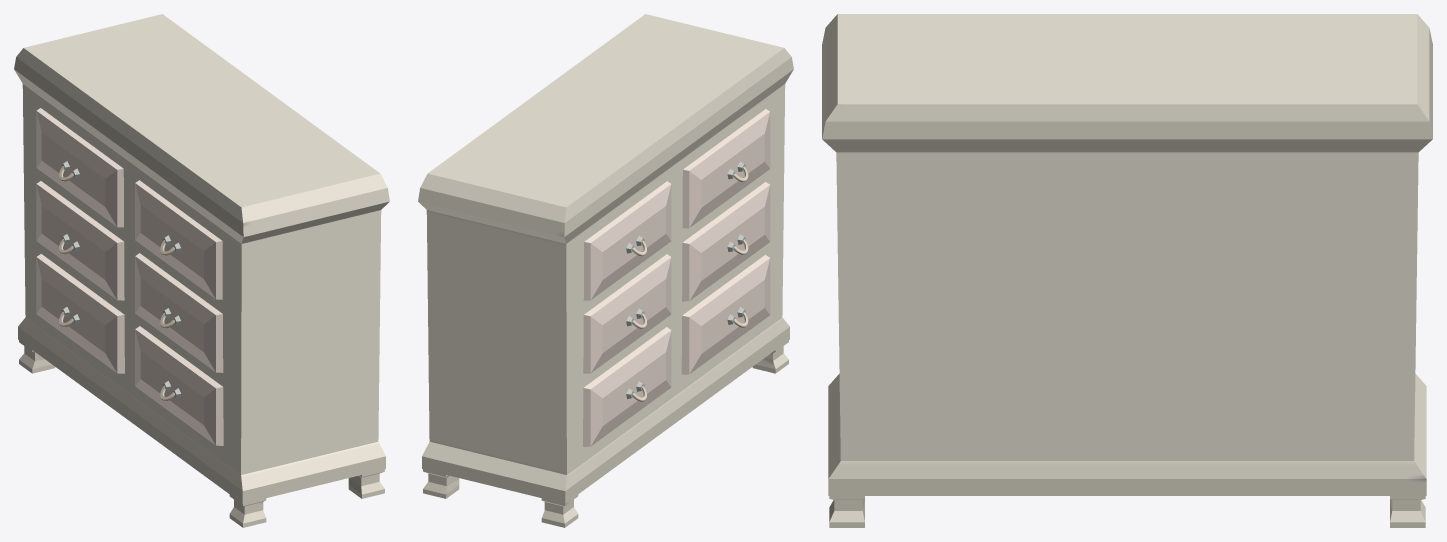
3 renders of one model, left to right at view 1: azimuth 30°, elevation 25°; view 2: azimuth 150°, elevation 25°; view 3: azimuth 270°, elevation 25°, orthographic. The views are drawn at different scales.
Parts seen in each view (by area): view 1: Kostka.001; view 2: Kostka.001; view 3: Kostka.001.
Part boxes in pixels (x1,y1,x2,y2): Kostka.001: (14,14,389,527); Kostka.001: (418,14,793,527); Kostka.001: (822,14,1432,527).
Size of the model in its own units: 291 by 541 by 708.
1 material, 1 textured.
